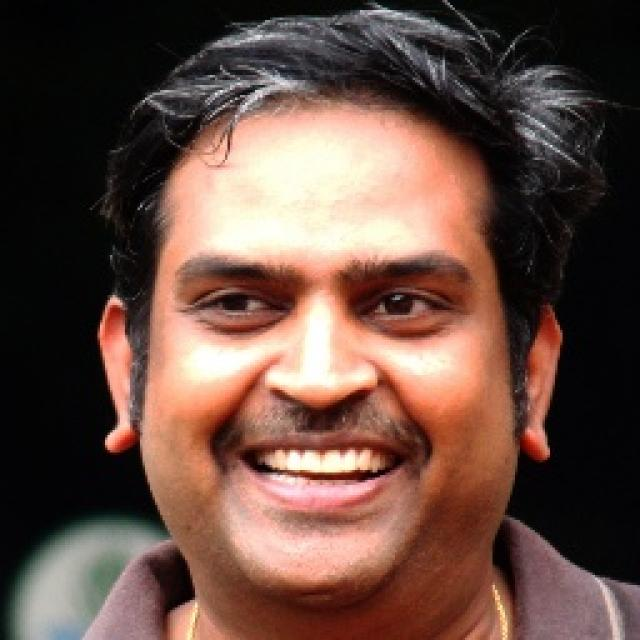earlobe: (104, 390, 140, 453), (521, 400, 551, 462)
eye: (196, 286, 280, 320), (364, 289, 447, 323)
nose: (266, 393, 383, 437)
wholeear: (520, 303, 562, 462), (98, 295, 138, 453)
